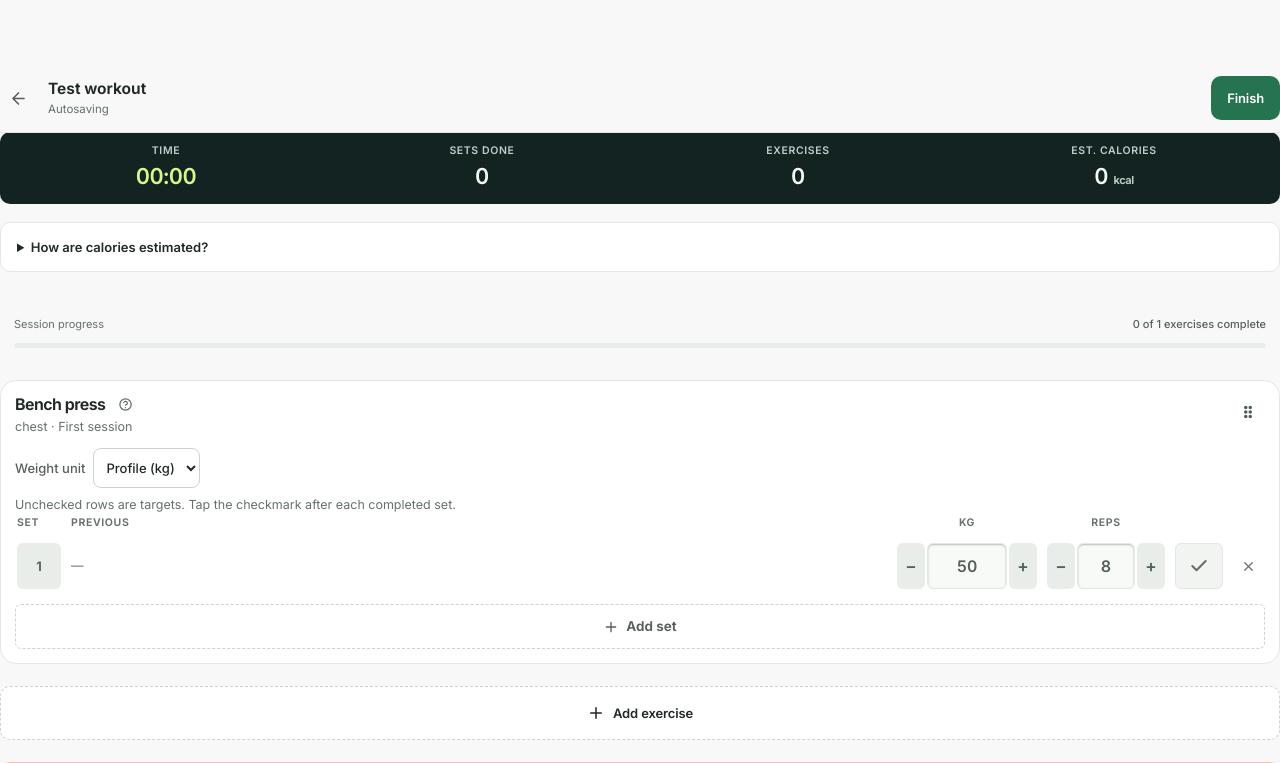
Test: workout interface › requires a finish review and can return to training without saving
This screenshot has width=1280, height=763.
Expected: the text "Test workout" is shown, [48, 77, 146, 101]
Click the button "Finish" at (1246, 98), box [1211, 76, 1279, 120]
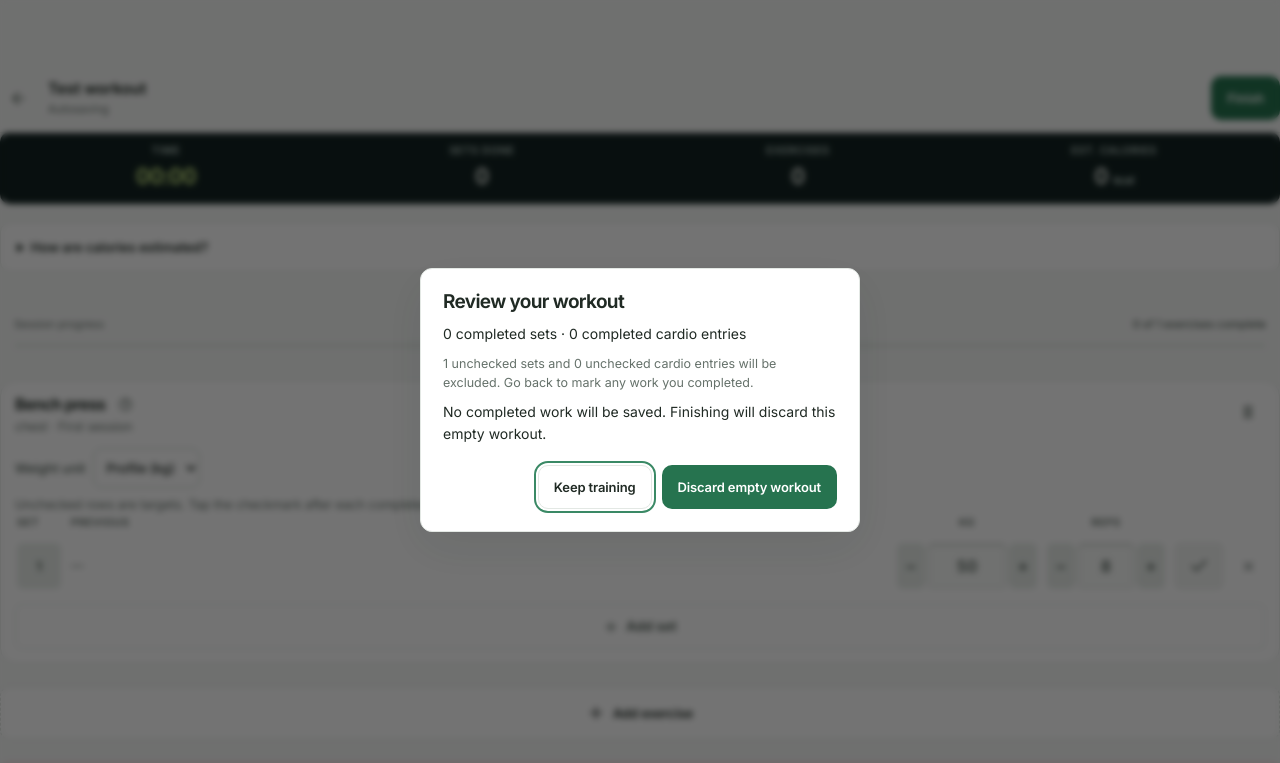
Now the dialog "Review your workout" is shown, box [420, 268, 860, 532]
Now the text "1 unchecked sets" is shown, box [443, 356, 776, 390]
Click the button "Keep training" at (595, 487), box [538, 465, 652, 509]
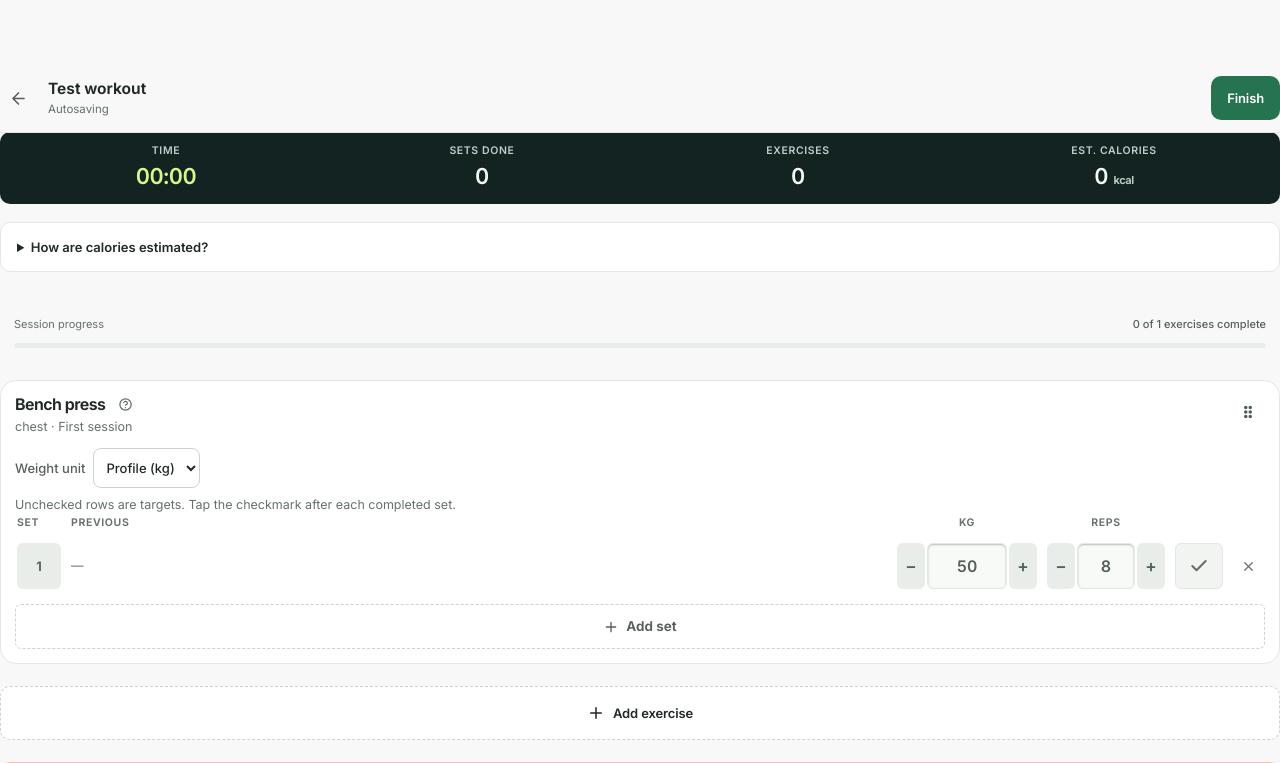
Now the dialog is gone
